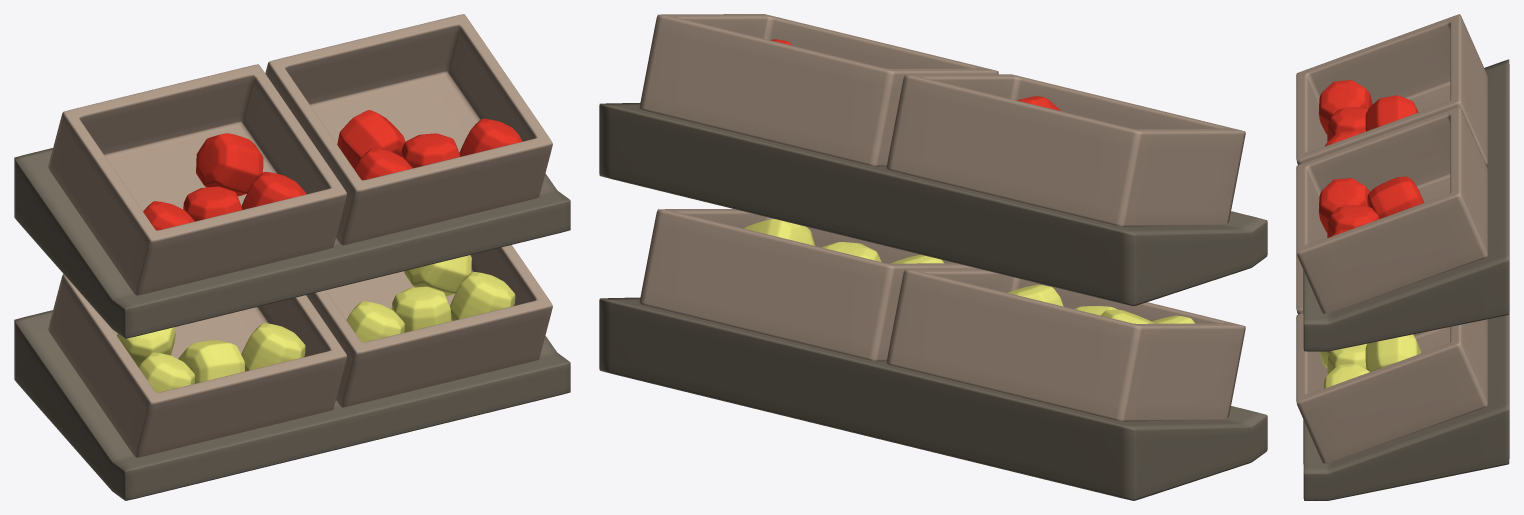
The model's file is fruits1.fbx.
3 renders of one model, left to right at view 1: azimuth 30°, elevation 25°; view 2: azimuth 150°, elevation 25°; view 3: azimuth 270°, elevation 25°, orthographic. The views are drawn at different scales.
Parts seen in each view (by area): view 1: fruits1; view 2: fruits1; view 3: fruits1.
Boxes of the visible parts, left/top/right/bottom form: fruits1: left=14, top=14, right=570, bottom=500; fruits1: left=599, top=14, right=1267, bottom=500; fruits1: left=1296, top=14, right=1509, bottom=500.
Size of the model in its own units: 624 by 431 by 281.
